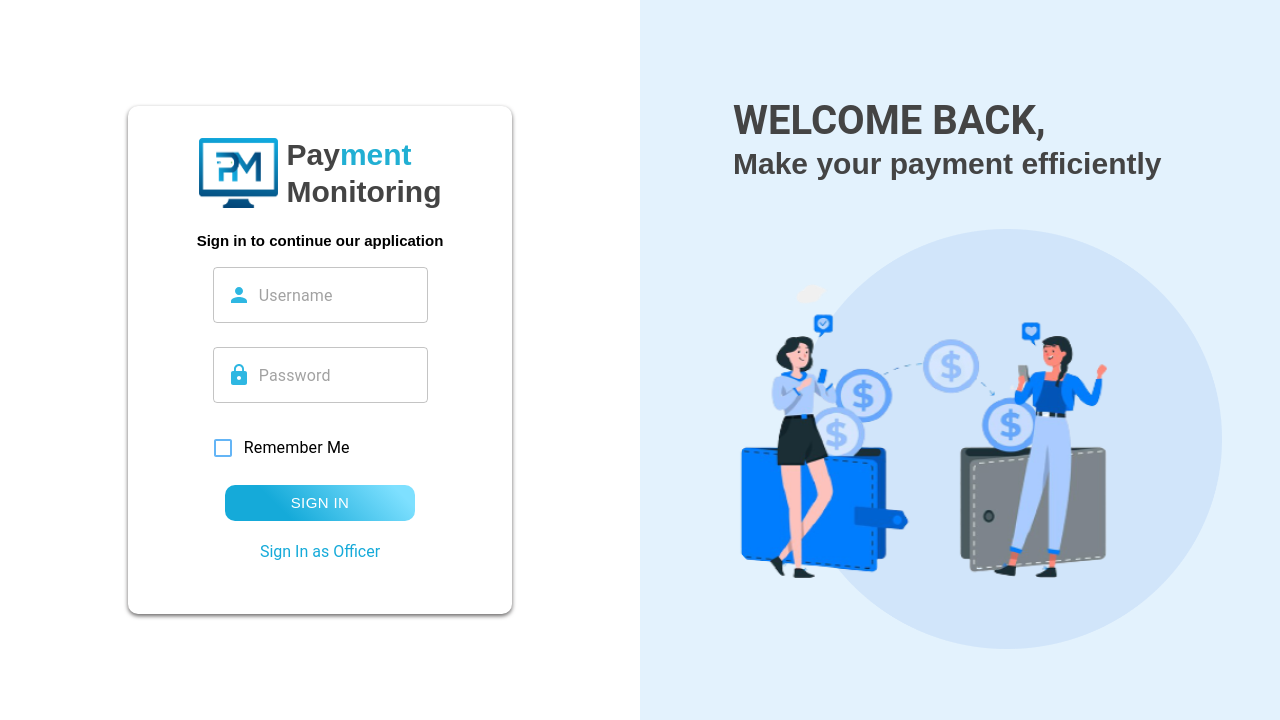
it: Negative case Customer Login › show error when username input empty
Type "123456" into the element with test id "txt-password". click: (321, 375)
box: x1=213 y1=347 x2=428 y2=403
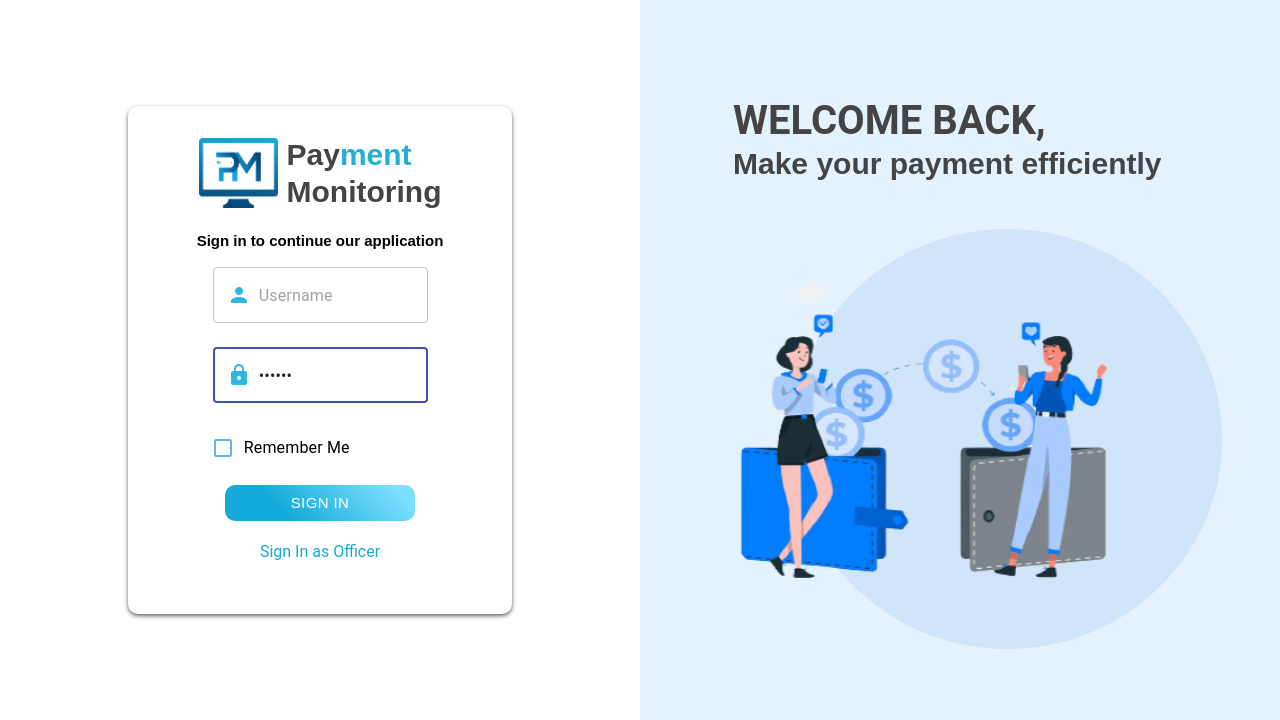
Click the button with test id "btn-submit". click: (320, 503)
box: x1=225 y1=485 x2=415 y2=521
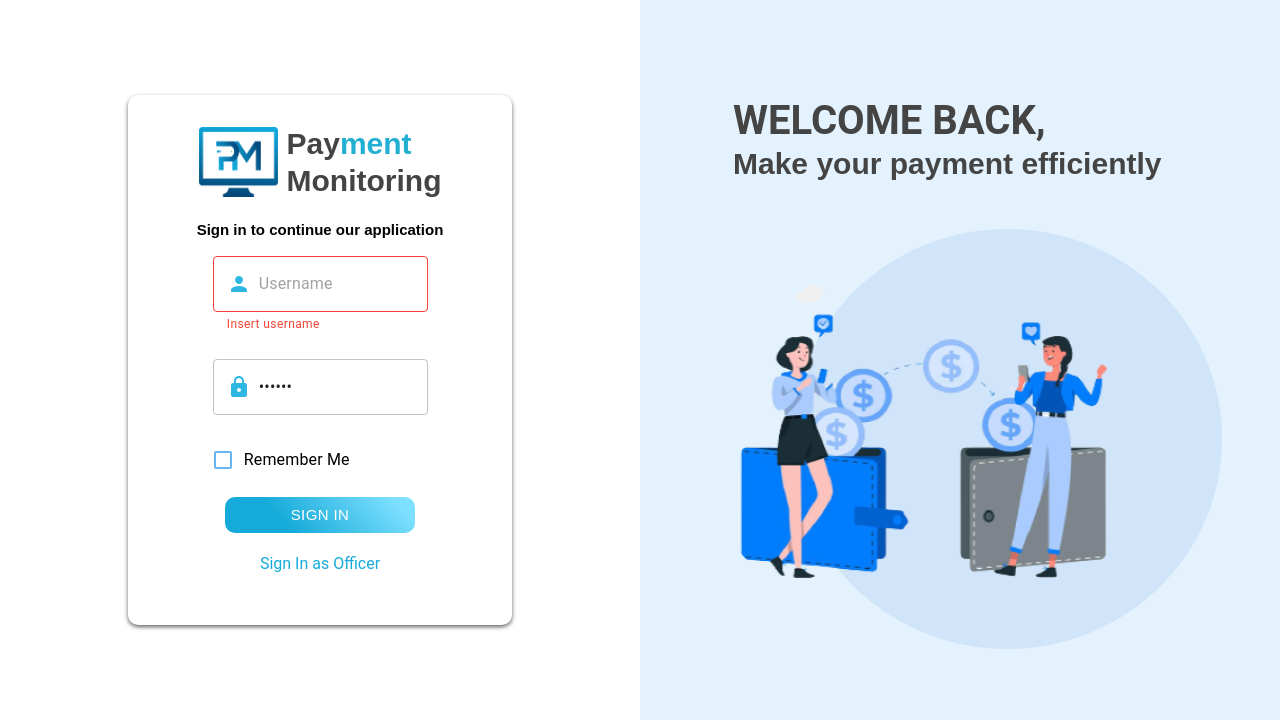
Result: the text "Insert username" is shown at x1=227 y1=317 x2=320 y2=331
